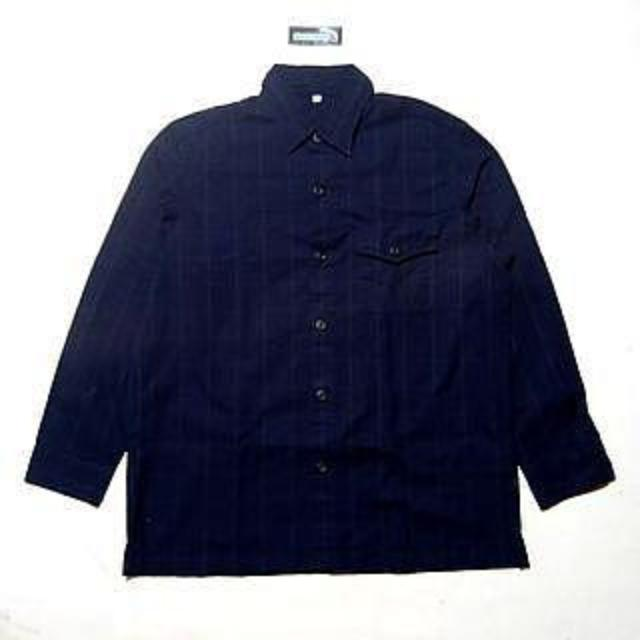SHIRT: (13, 46, 632, 586)
